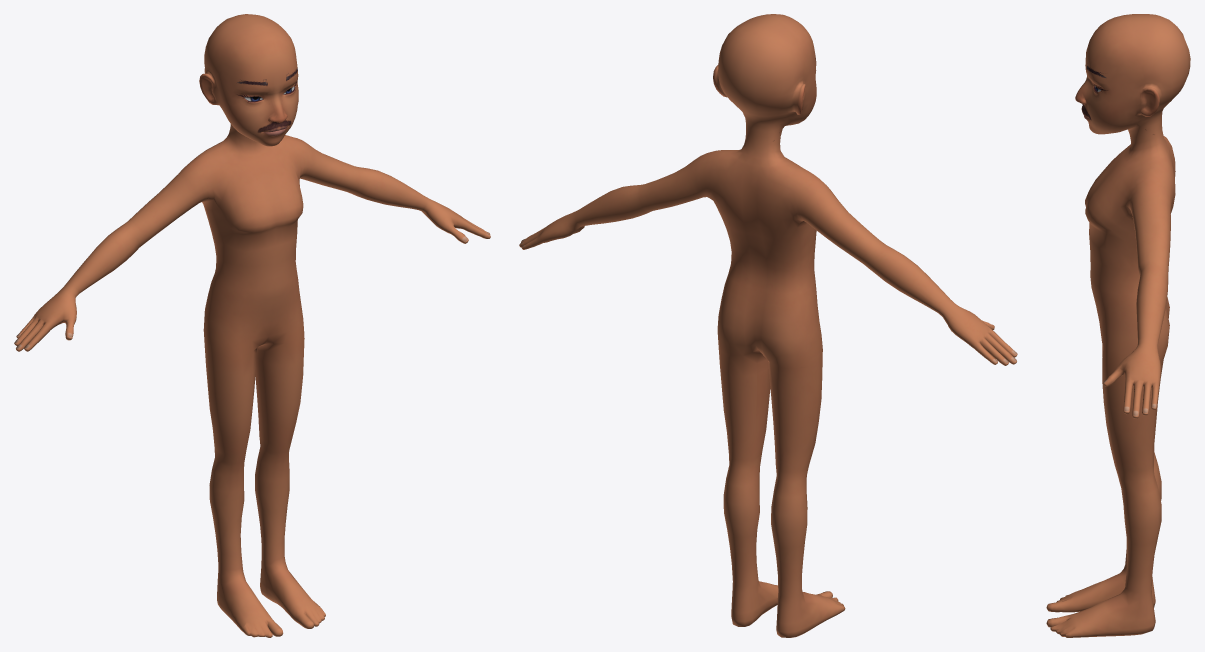
Rendered from frame_0041.glb.
The picture shows the model from 3 angles, left to right: view 1: azimuth 30°, elevation 25°; view 2: azimuth 150°, elevation 25°; view 3: azimuth 270°, elevation 25°; orthographic projection. The views are drawn at different scales.
Parts seen in each view (by area): view 1: frame_0041_head_geo; view 2: frame_0041_head_geo; view 3: frame_0041_head_geo.
Boxes of the visible parts, x1,y1,x2,y2 form: frame_0041_head_geo: (14,14,490,637); frame_0041_head_geo: (519,14,1017,637); frame_0041_head_geo: (1046,14,1190,637).
Size of the model in its own units: 1.28 by 1.5 by 0.3253.
Materials: 3 (3 with a texture image).
